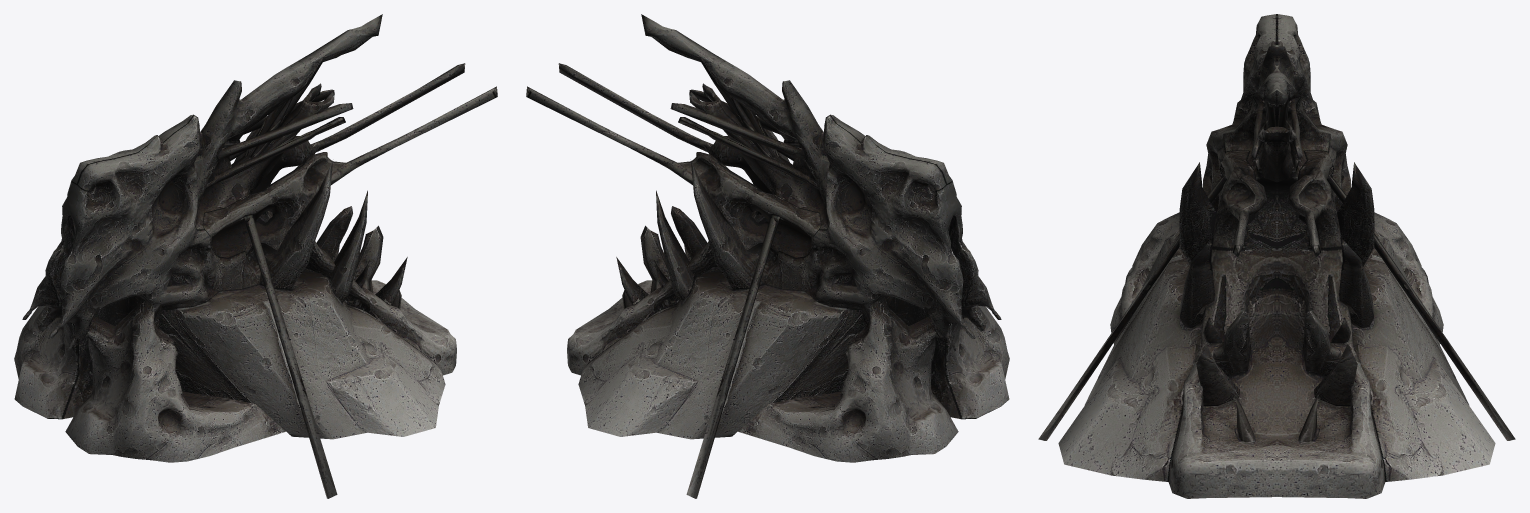
File: Dire_Ranged.fbx
3 views of the same model, side by side, from view 1: azimuth 30°, elevation 25°; view 2: azimuth 150°, elevation 25°; view 3: azimuth 270°, elevation 25° (orthographic). The views are drawn at different scales.
Parts seen in each view (by area): view 1: dire_Ranged; view 2: dire_Ranged; view 3: dire_Ranged.
Boxes of the visible parts, x1,y1,x2,y2 form: dire_Ranged: (14,14,497,498); dire_Ranged: (526,14,1009,498); dire_Ranged: (1038,14,1515,498).
Bounding box in the file's own units: 440 × 354 × 349.
